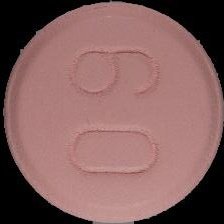0078-0351: (0, 0, 224, 224)
